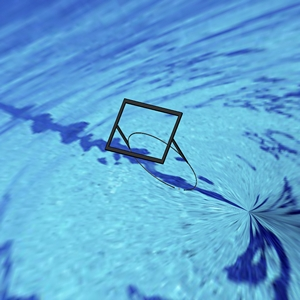circle: (101, 96, 198, 191)
